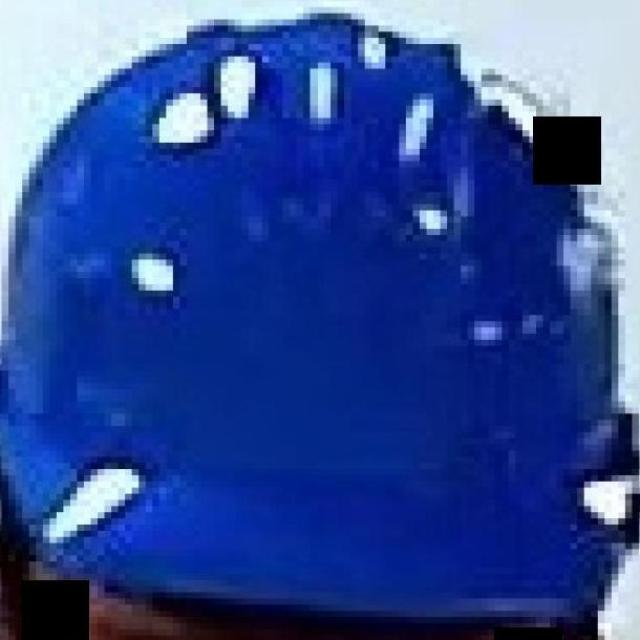blue helmet: (11, 15, 626, 622)
